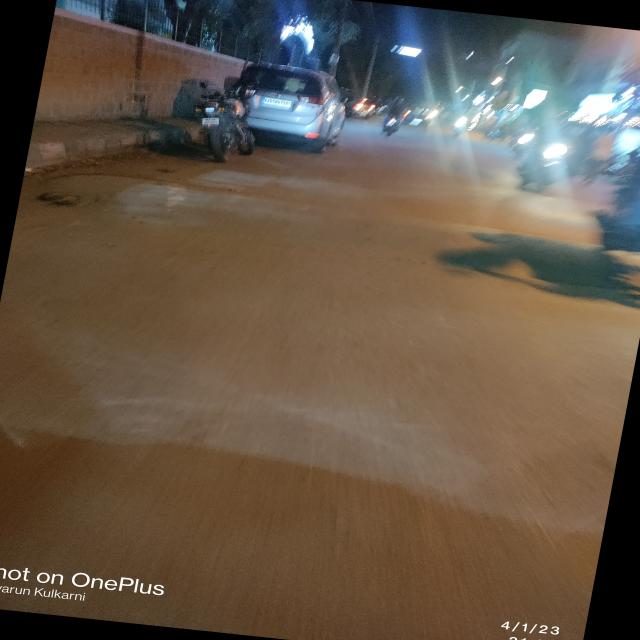potholes: (34, 170, 255, 226)
